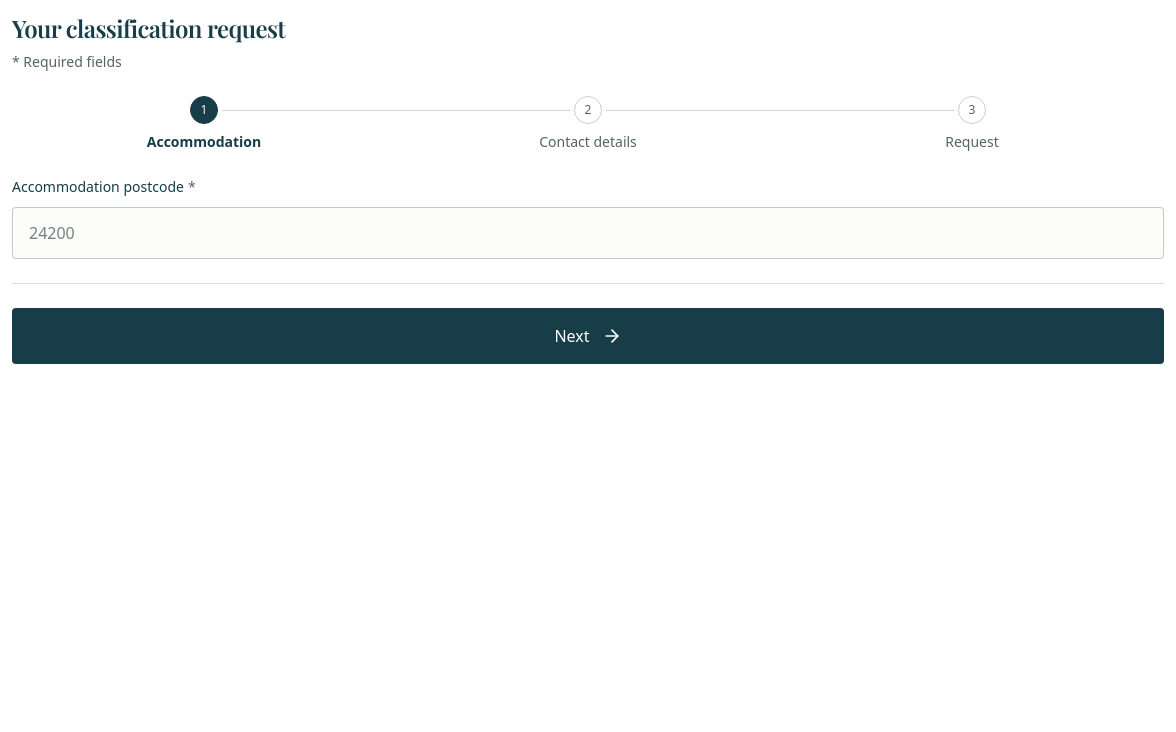
Test case: étape Logement › stays blocked with retry and phone when the API is down: en
Type "24150" into the field labelled "Accommodation postcode*" at (588, 233), box [12, 207, 1164, 259]
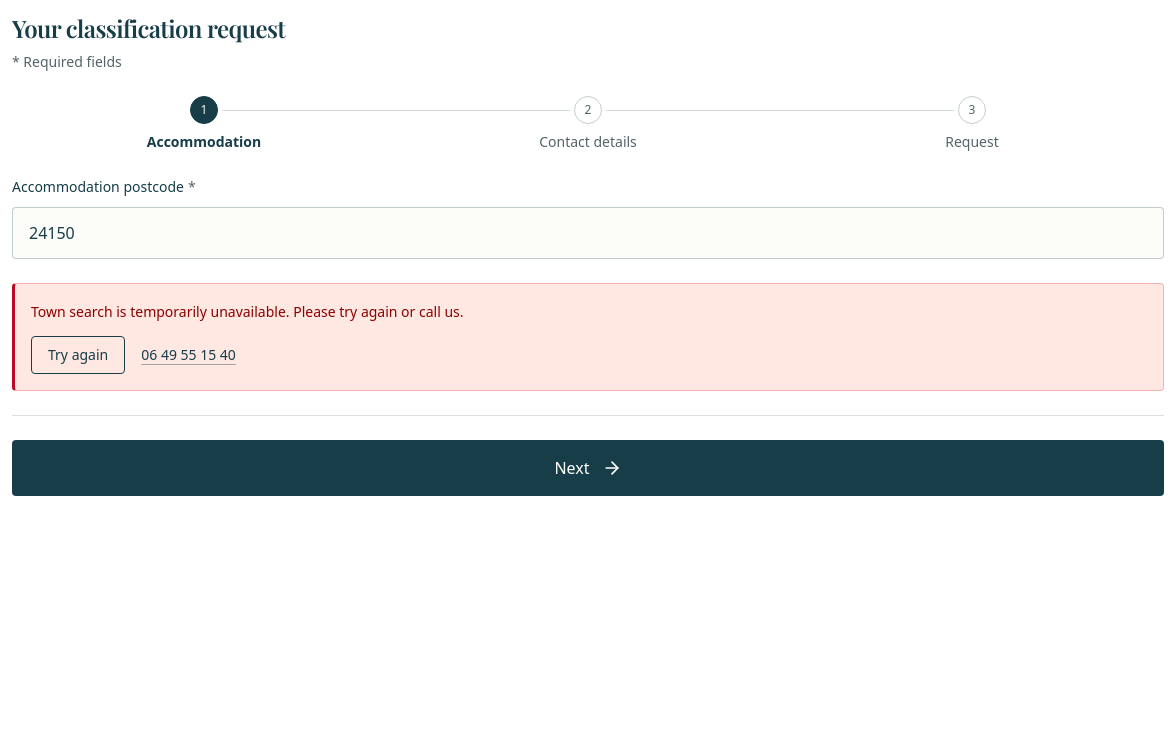
Check: the message shows "Town search is temporarily unavailable. Please try again or call us.", box [31, 302, 464, 321]
Check: the link to "tel:+33649551540" is shown, box [141, 344, 236, 364]
Click the button "Next" at (588, 468), box [12, 440, 1164, 496]
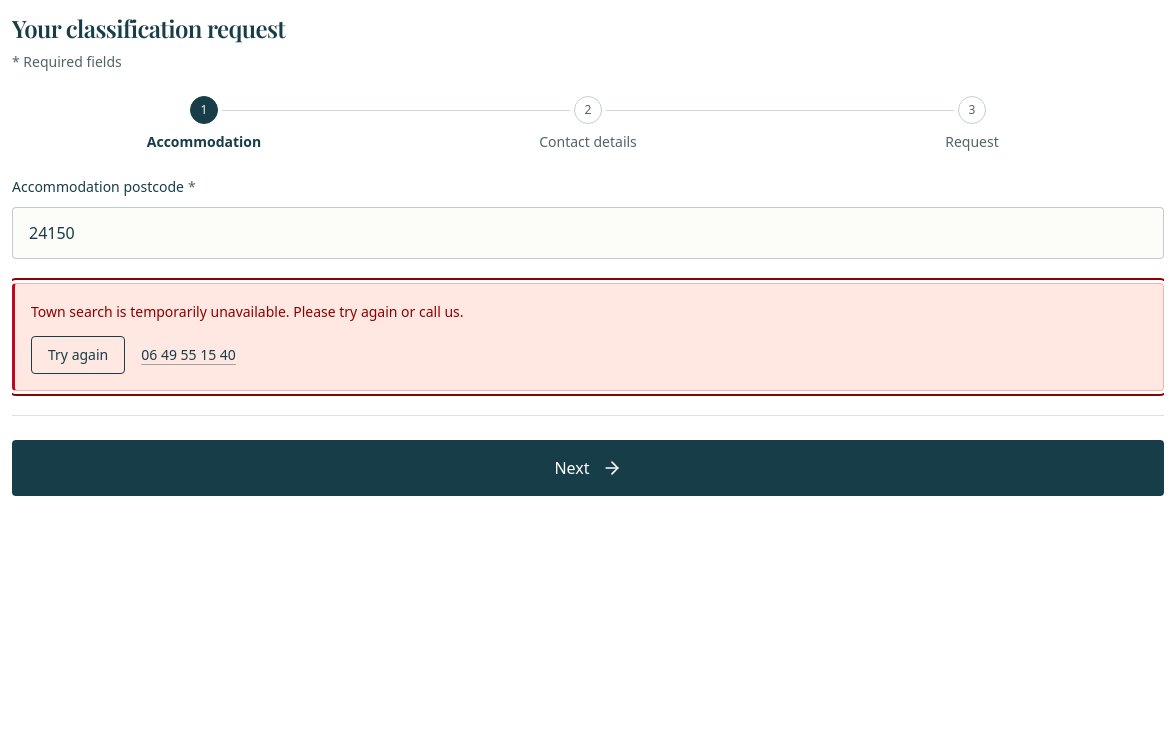
Check: the list item "1 Accommodation" is shown, box [147, 96, 261, 151]
Click the button "Try again" at (78, 354), box [31, 336, 125, 374]
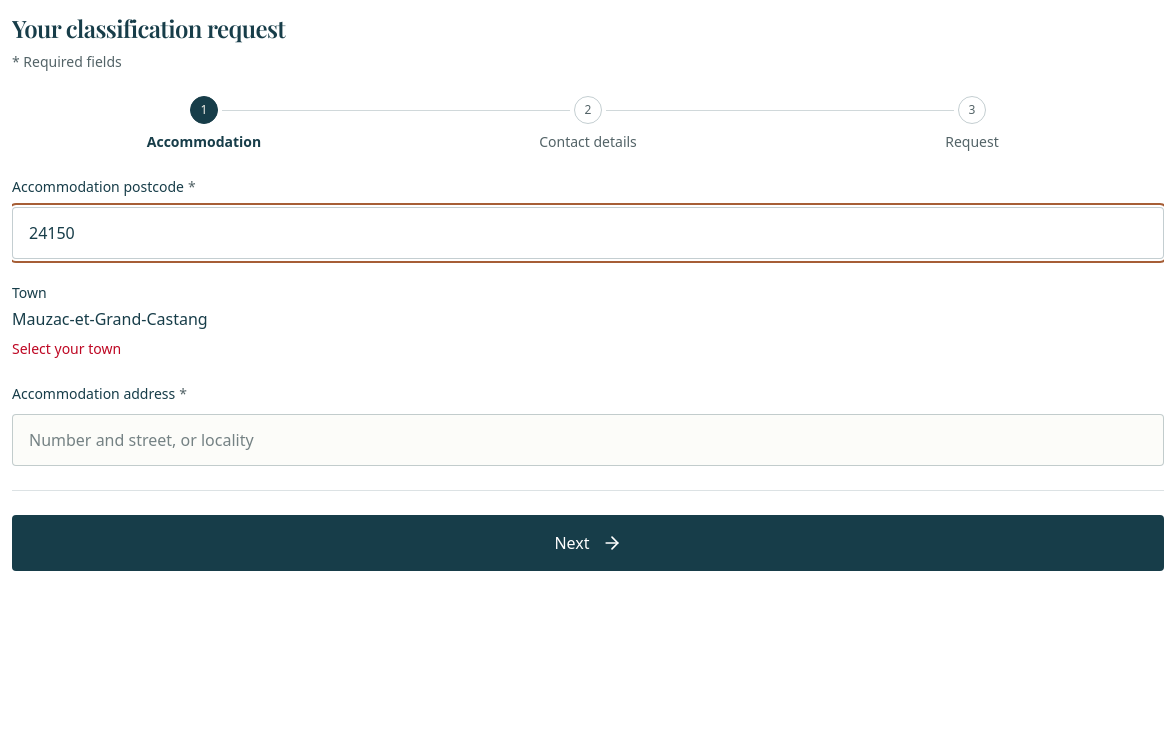
Check: the text "Mauzac-et-Grand-Castang" is shown, box [12, 308, 208, 330]
Check: the text "Town search is temporarily unavailable. Please try again or call us." is gone
